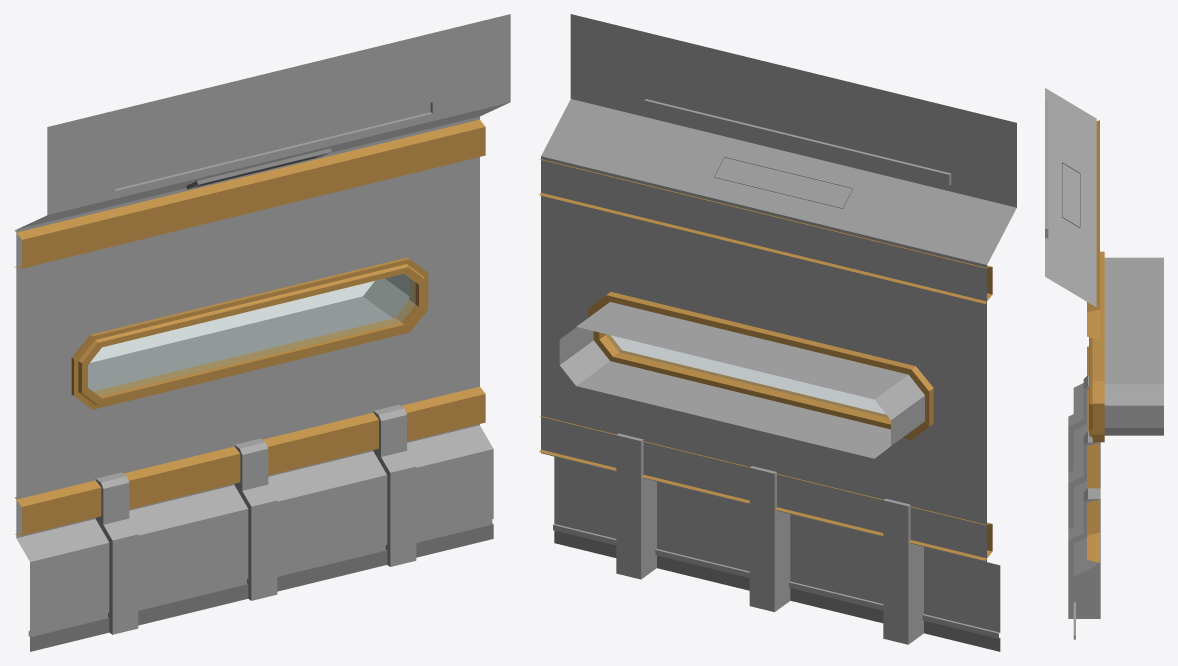
File: LongWindow_Wall_SideA.gltf
The picture shows the model from 3 angles, left to right: view 1: azimuth 30°, elevation 25°; view 2: azimuth 150°, elevation 25°; view 3: azimuth 270°, elevation 25°; orthographic projection. The views are drawn at different scales.
Parts seen in each view (by area): view 1: LongWindow_Wall_SideA; view 2: LongWindow_Wall_SideA; view 3: LongWindow_Wall_SideA.
Part boxes in pixels (box(x1,y1,x2,y2)): LongWindow_Wall_SideA: box(14, 14, 510, 651); LongWindow_Wall_SideA: box(539, 14, 1016, 651); LongWindow_Wall_SideA: box(1045, 88, 1163, 639).
Size of the model in its own units: 4 by 4.43 by 1.06.
